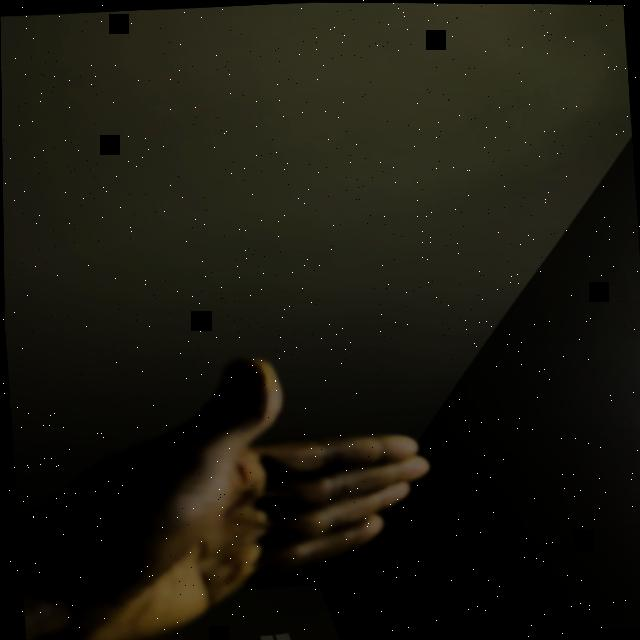Paper: (27, 344, 445, 640)
